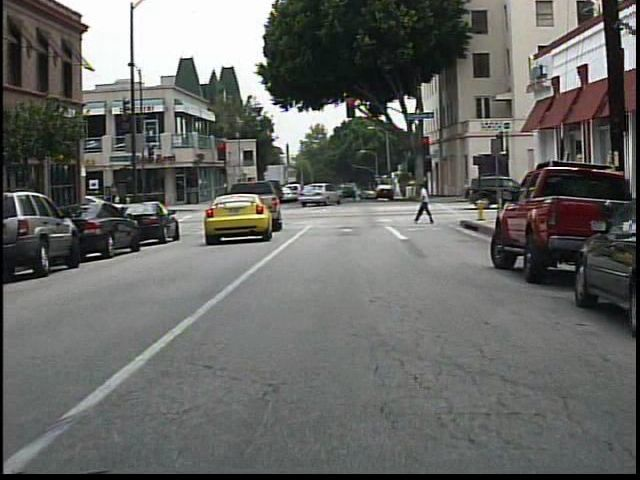person: (412, 180, 438, 226)
